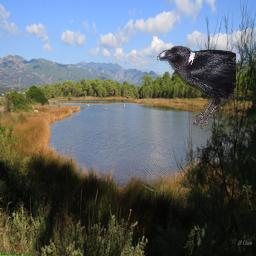Crow: (158, 45, 237, 129)
